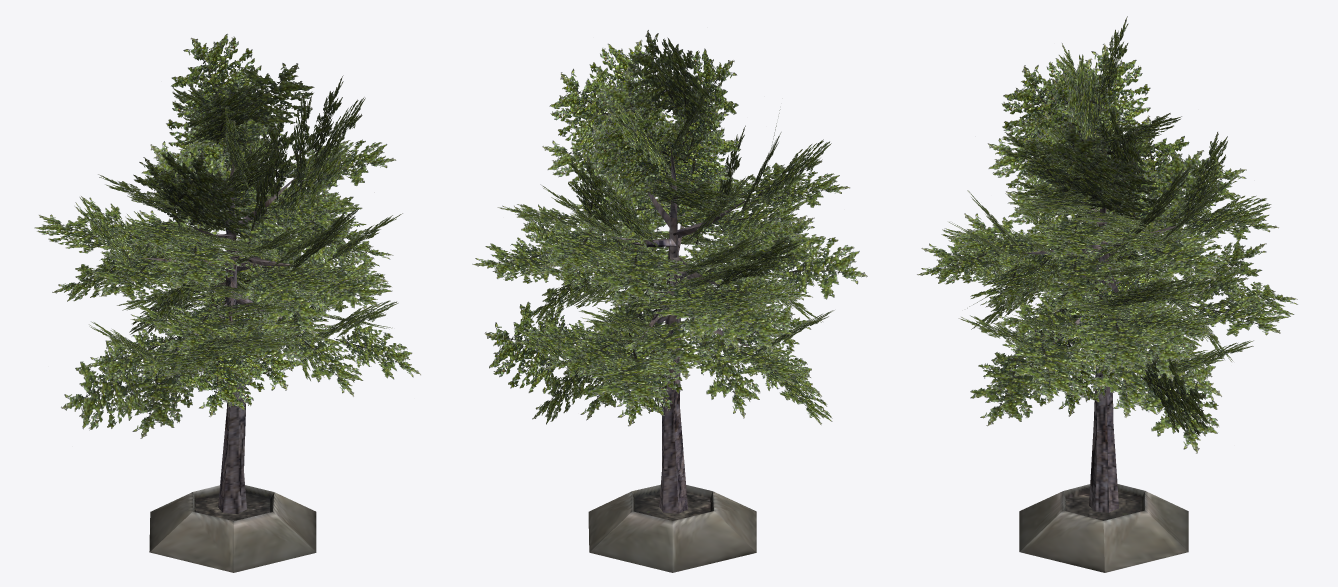
File: tree.fbx
The picture shows the model from 3 angles, left to right: view 1: azimuth 30°, elevation 25°; view 2: azimuth 150°, elevation 25°; view 3: azimuth 270°, elevation 25°; orthographic projection.
Parts seen in each view (by area): view 1: model_1; view 2: model_1; view 3: model_1.
Boxes of the visible parts, x1,y1,x2,y2 form: model_1: (34, 33, 420, 572); model_1: (472, 30, 867, 572); model_1: (917, 16, 1297, 572).
Bounding box in the file's own units: 570 × 803 × 584.
Materials: 1 (1 with a texture image).
